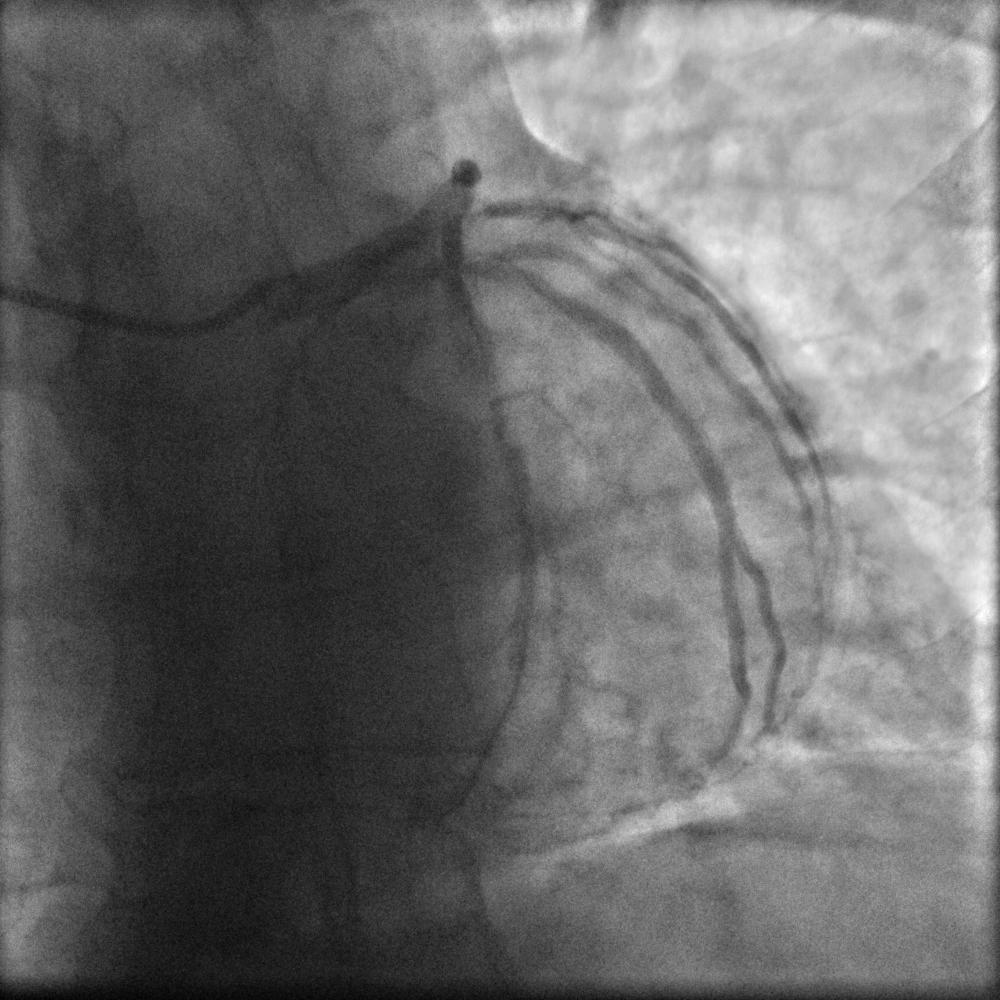Stenosis: (479, 375, 520, 465)
